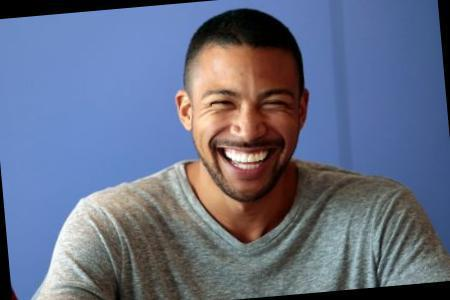Sober: (194, 48, 293, 192)
